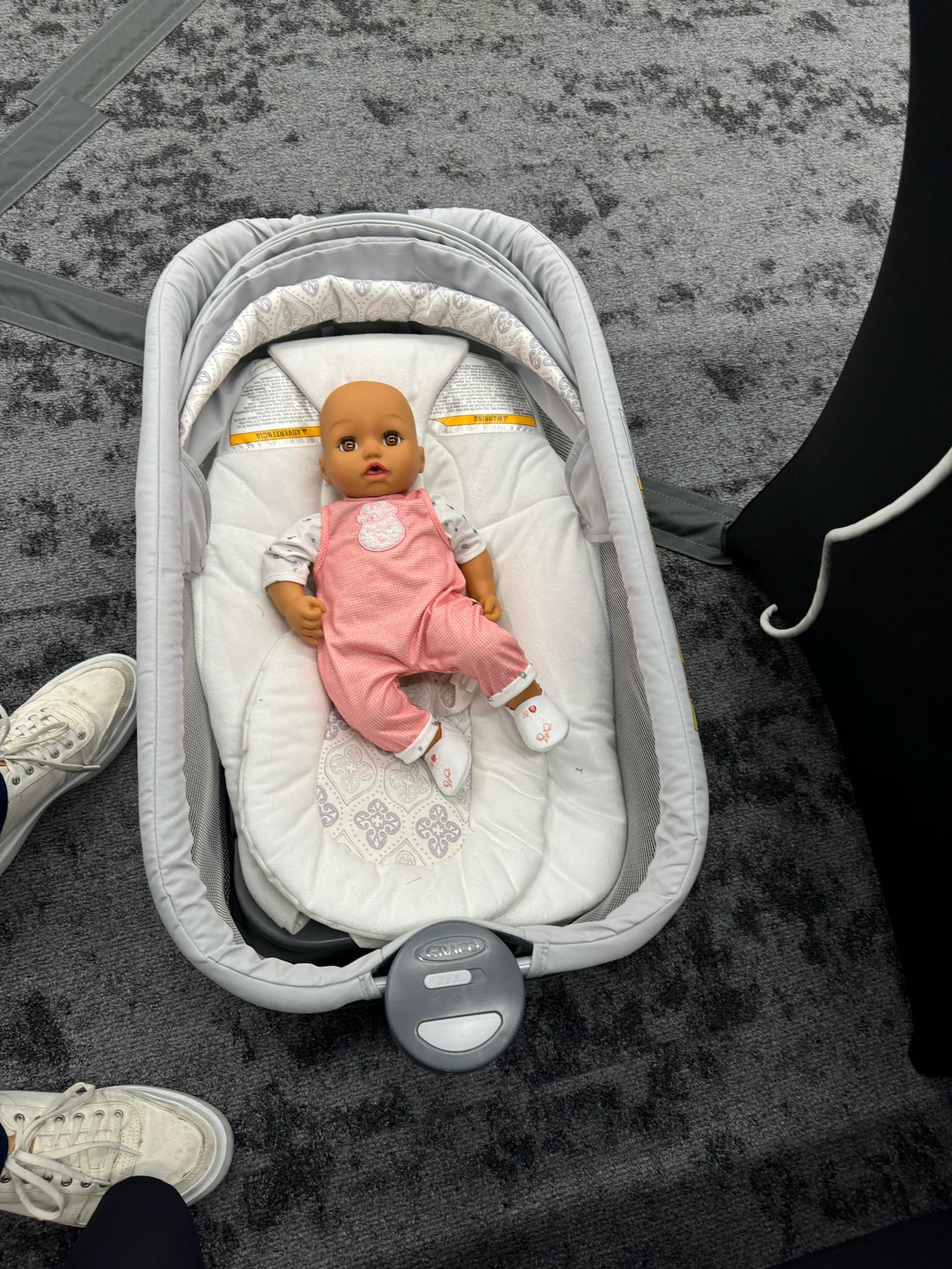baby: (256, 371, 577, 793)
